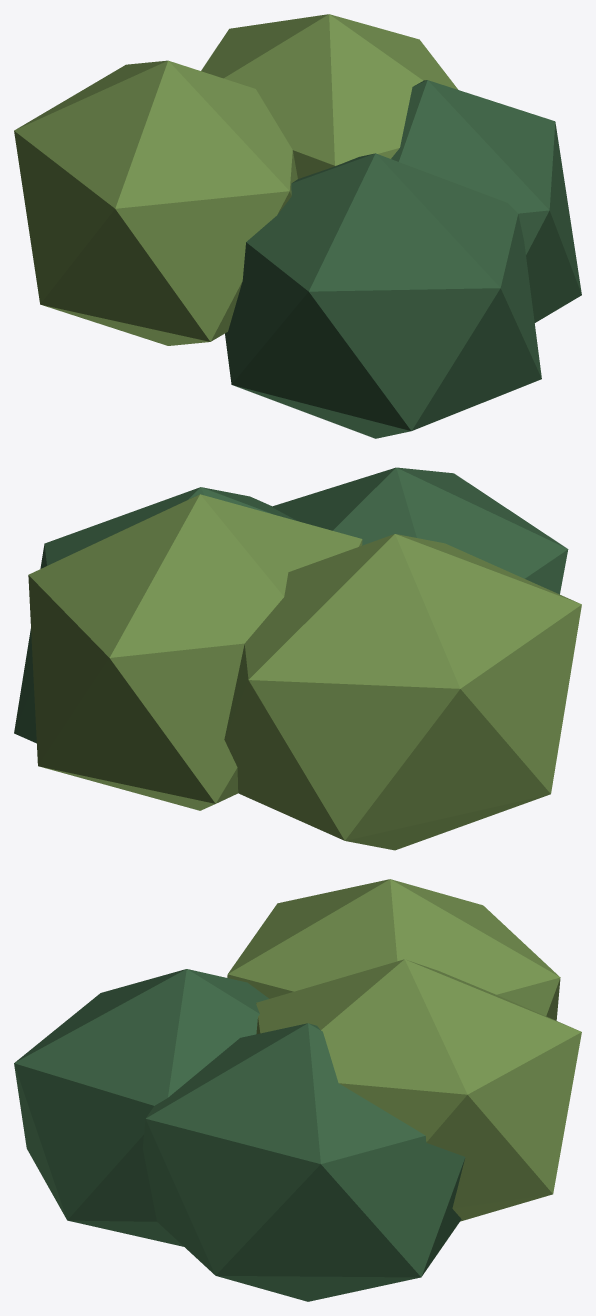
File: Bush_A.fbx
3 views of the same model, one above another, from view 1: azimuth 30°, elevation 25°; view 2: azimuth 150°, elevation 25°; view 3: azimuth 270°, elevation 25° (orthographic). The views are drawn at different scales.
Parts seen in each view (by area): view 1: Bush_A; view 2: Bush_A; view 3: Bush_A.
Boxes of the visible parts, x1,y1,x2,y2 form: Bush_A: [14, 14, 581, 438]; Bush_A: [14, 467, 581, 850]; Bush_A: [14, 879, 581, 1301].
Bounding box in the file's own units: 0.7462 × 0.48 × 0.7738.
1 material, 1 textured.
